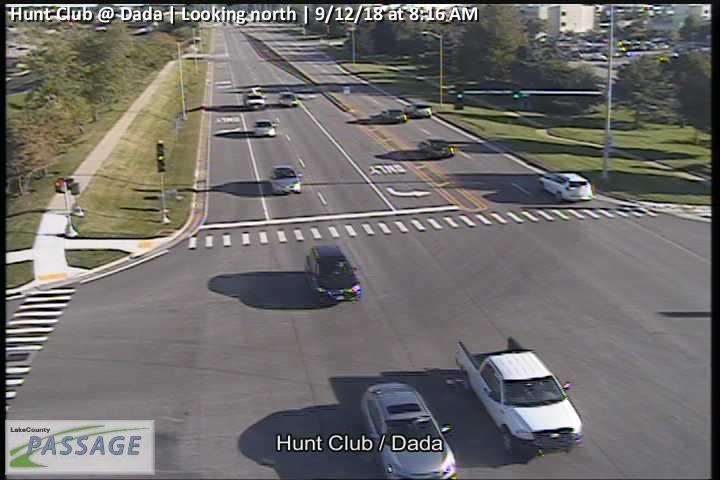SUV: (538, 172, 593, 203)
Sedan: (360, 381, 456, 480), (304, 244, 362, 306), (270, 166, 302, 195), (419, 138, 455, 158), (406, 103, 433, 118), (254, 120, 276, 136), (383, 109, 407, 122), (246, 95, 265, 110), (279, 92, 298, 107)
Truck: (455, 336, 584, 451)
